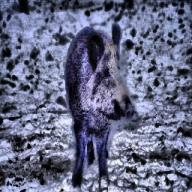boar: (63, 22, 138, 192)
